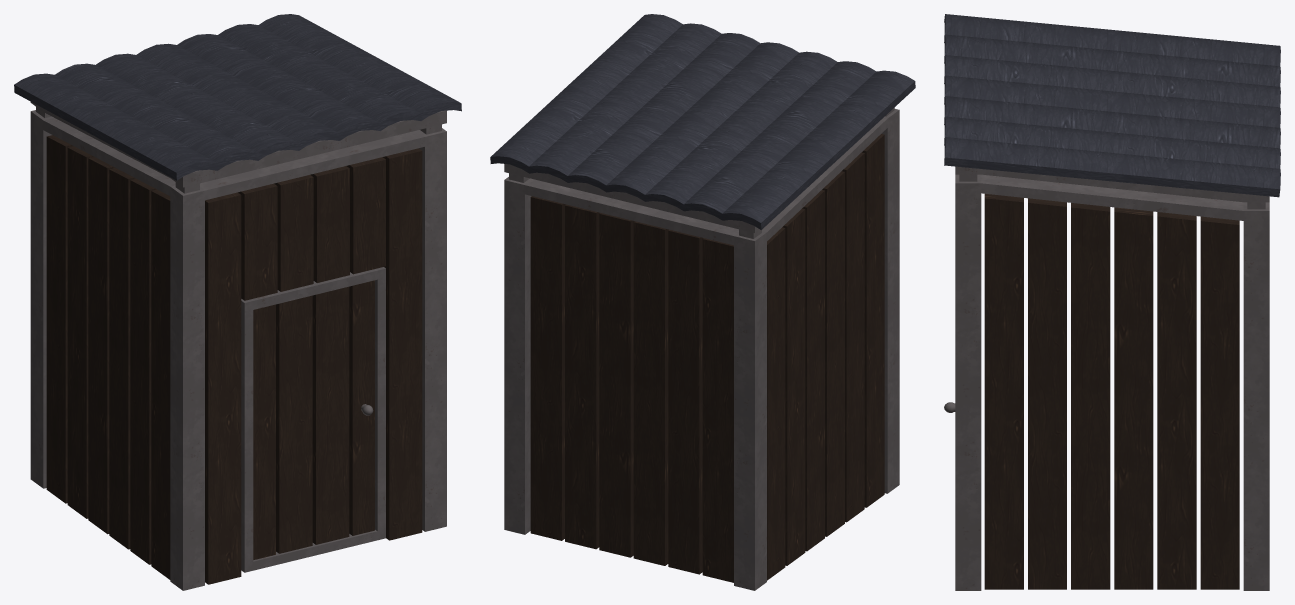
Rendered from Cabinet_01.fbx.
The picture shows the model from 3 angles, left to right: view 1: azimuth 30°, elevation 25°; view 2: azimuth 150°, elevation 25°; view 3: azimuth 270°, elevation 25°; orthographic projection. The views are drawn at different scales.
Parts seen in each view (by area): view 1: Plane.004, Plane.002, Plane.008, Plane.010, Plane.007, Plane.006; view 2: Plane.005, Plane.008, Plane.004, Plane.002; view 3: Plane.003, Plane.008, Plane.002.
Part boxes in pixels (bbox=[...]): Plane.004: bbox=[46, 135, 170, 579]; Plane.002: bbox=[30, 102, 446, 590]; Plane.008: bbox=[14, 14, 461, 180]; Plane.010: bbox=[241, 267, 385, 572]; Plane.007: bbox=[205, 148, 422, 584]; Plane.006: bbox=[238, 157, 385, 300]; Plane.005: bbox=[530, 196, 733, 582]; Plane.008: bbox=[490, 14, 915, 229]; Plane.004: bbox=[767, 134, 884, 580]; Plane.002: bbox=[504, 108, 899, 590]; Plane.003: bbox=[984, 193, 1239, 589]; Plane.008: bbox=[944, 14, 1280, 197]; Plane.002: bbox=[955, 166, 1269, 590].
Bounding box in the file's own units: 216 × 311 × 214.
